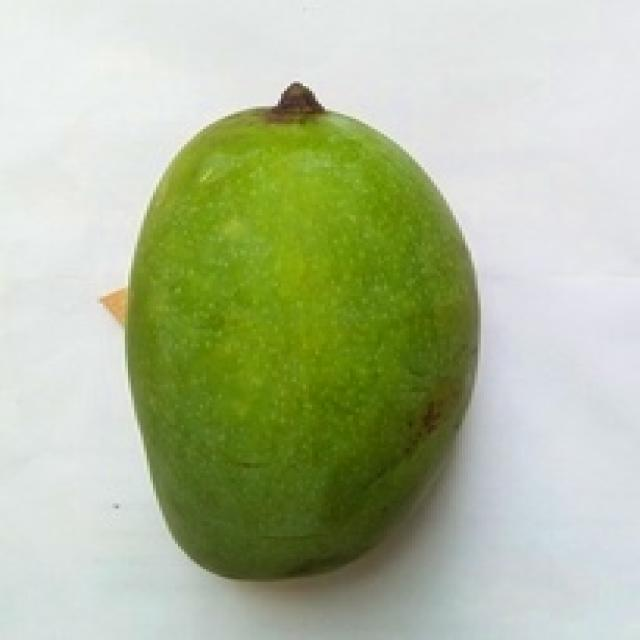Mango: (128, 83, 471, 577)
